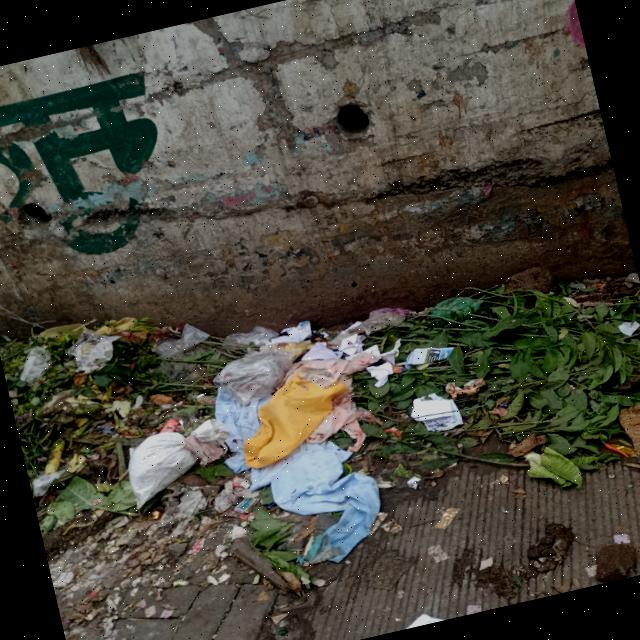garbage: (216, 255, 640, 538), (0, 301, 245, 562)
